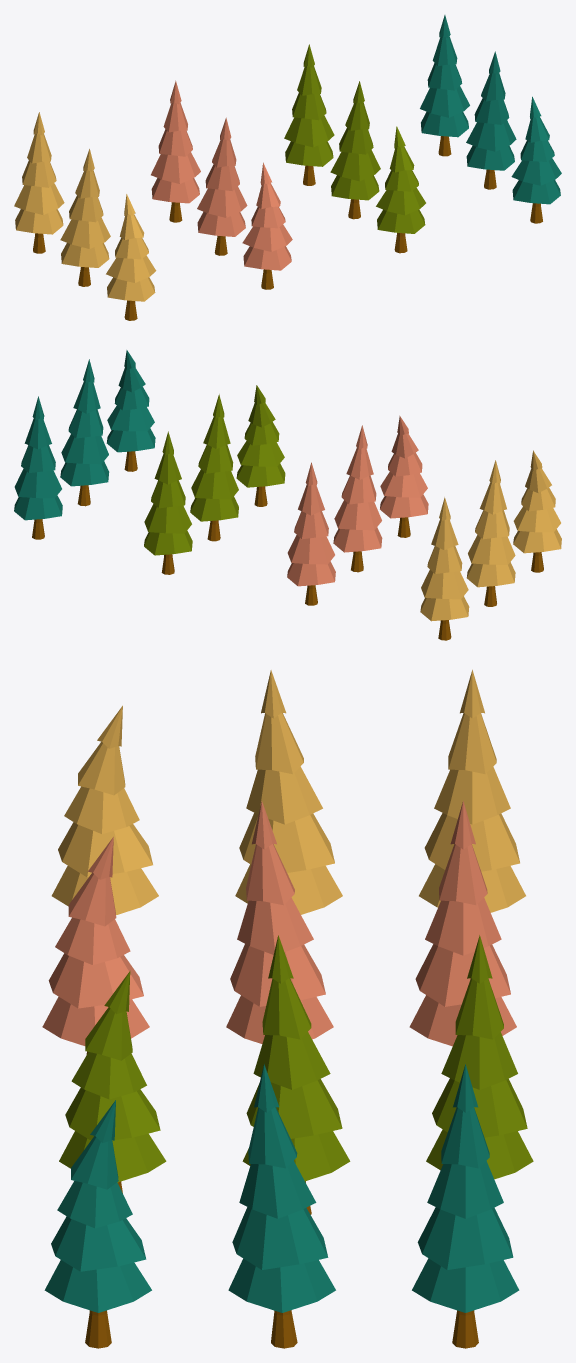
The model's file is pine_tree.glb.
3 renders of one model, top to bottom at view 1: azimuth 30°, elevation 25°; view 2: azimuth 150°, elevation 25°; view 3: azimuth 270°, elevation 25°, orthographic. The views are drawn at different scales.
Parts seen in each view (by area): view 1: Lowpoly_Pine_01_Yellow, Lowpoly_Pine_01_Green, Lowpoly_Pine_01_Blue_, Lowpoly_Pine_01_Orange, Lowpoly_Pine_02_Green, Lowpoly_Pine_02_Blue, Lowpoly_Pine_02_Orange, Lowpoly_Pine_02_Yellow, Lowpoly_Pine_03_Blue, Lowpoly_Pine_03_Orange, Lowpoly_Pine_03_Yellow, Lowpoly_Pine_03_Green; view 2: Lowpoly_Pine_02_Green, Lowpoly_Pine_02_Orange, Lowpoly_Pine_02_Yellow, Lowpoly_Pine_02_Blue, Lowpoly_Pine_01_Blue_, Lowpoly_Pine_01_Orange, Lowpoly_Pine_01_Green, Lowpoly_Pine_01_Yellow, Lowpoly_Pine_03_Blue, Lowpoly_Pine_03_Green, Lowpoly_Pine_03_Orange, Lowpoly_Pine_03_Yellow; view 3: Lowpoly_Pine_02_Blue, Lowpoly_Pine_01_Blue_, Lowpoly_Pine_03_Blue, Lowpoly_Pine_01_Orange, Lowpoly_Pine_02_Orange, Lowpoly_Pine_02_Green, Lowpoly_Pine_02_Yellow, Lowpoly_Pine_01_Yellow, Lowpoly_Pine_01_Green, Lowpoly_Pine_03_Orange, Lowpoly_Pine_03_Yellow, Lowpoly_Pine_03_Green.
Part boxes in pixels (x1,y1,x2,y2): Lowpoly_Pine_01_Yellow: (14,112,64,253); Lowpoly_Pine_01_Green: (284,44,334,185); Lowpoly_Pine_01_Blue_: (420,15,469,156); Lowpoly_Pine_01_Orange: (151,80,200,222); Lowpoly_Pine_02_Green: (330,81,380,219); Lowpoly_Pine_02_Blue: (466,51,516,189); Lowpoly_Pine_02_Orange: (197,117,247,255); Lowpoly_Pine_02_Yellow: (60,149,110,286); Lowpoly_Pine_03_Blue: (511,96,561,223); Lowpoly_Pine_03_Orange: (242,162,292,289); Lowpoly_Pine_03_Yellow: (106,194,156,320); Lowpoly_Pine_03_Green: (376,126,425,253); Lowpoly_Pine_02_Green: (190,394,238,541); Lowpoly_Pine_02_Orange: (333,425,382,572); Lowpoly_Pine_02_Yellow: (466,460,515,606); Lowpoly_Pine_02_Blue: (60,359,109,506); Lowpoly_Pine_01_Blue_: (14,396,62,539); Lowpoly_Pine_01_Orange: (287,462,335,605); Lowpoly_Pine_01_Green: (144,431,192,574); Lowpoly_Pine_01_Yellow: (420,497,469,640); Lowpoly_Pine_03_Blue: (106,350,155,471); Lowpoly_Pine_03_Green: (236,385,285,506); Lowpoly_Pine_03_Orange: (380,415,428,537); Lowpoly_Pine_03_Yellow: (513,450,561,572); Lowpoly_Pine_02_Blue: (228,1064,335,1348); Lowpoly_Pine_01_Blue_: (412,1064,519,1348); Lowpoly_Pine_03_Blue: (44,1100,151,1348); Lowpoly_Pine_01_Orange: (409,801,516,1046); Lowpoly_Pine_02_Orange: (226,801,333,1043); Lowpoly_Pine_02_Green: (242,935,350,1214); Lowpoly_Pine_02_Yellow: (235,670,342,914); Lowpoly_Pine_01_Yellow: (419,669,525,912); Lowpoly_Pine_01_Green: (426,935,533,1179); Lowpoly_Pine_03_Orange: (42,837,149,1054); Lowpoly_Pine_03_Yellow: (51,705,158,915); Lowpoly_Pine_03_Green: (59,971,166,1193).
Bounding box in the file's own units: 16.24 × 4.81 × 7.67.
